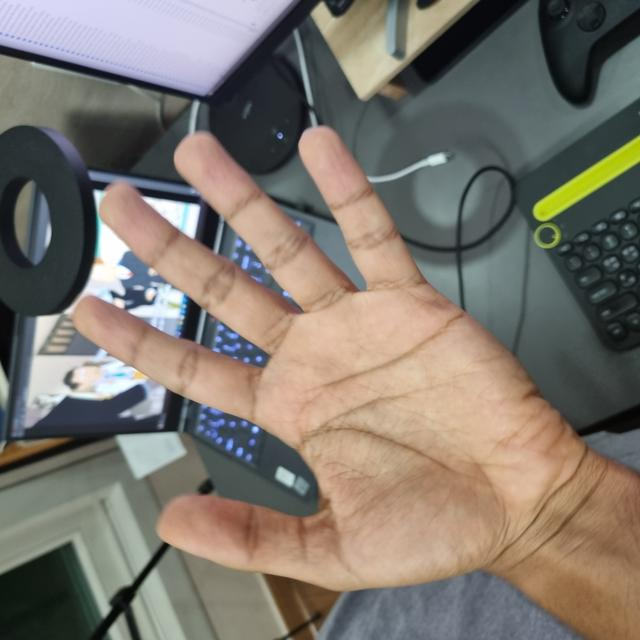Paper: (47, 70, 516, 576)
